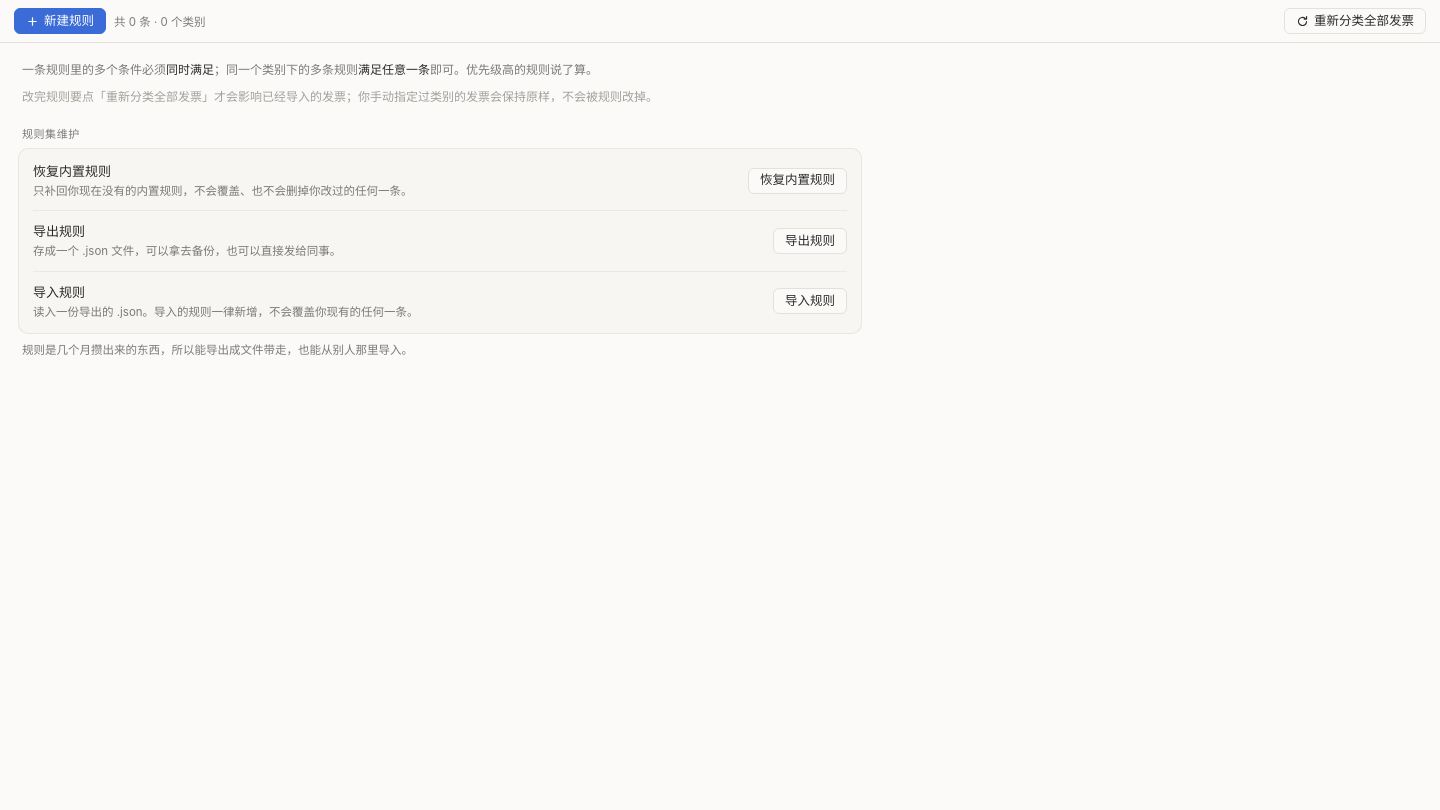
Test case: RulesPane › writes the rules to the file the user picked
The image size is (1440, 810).
Click the button "导出规则" at (810, 241), box [773,228,847,254]
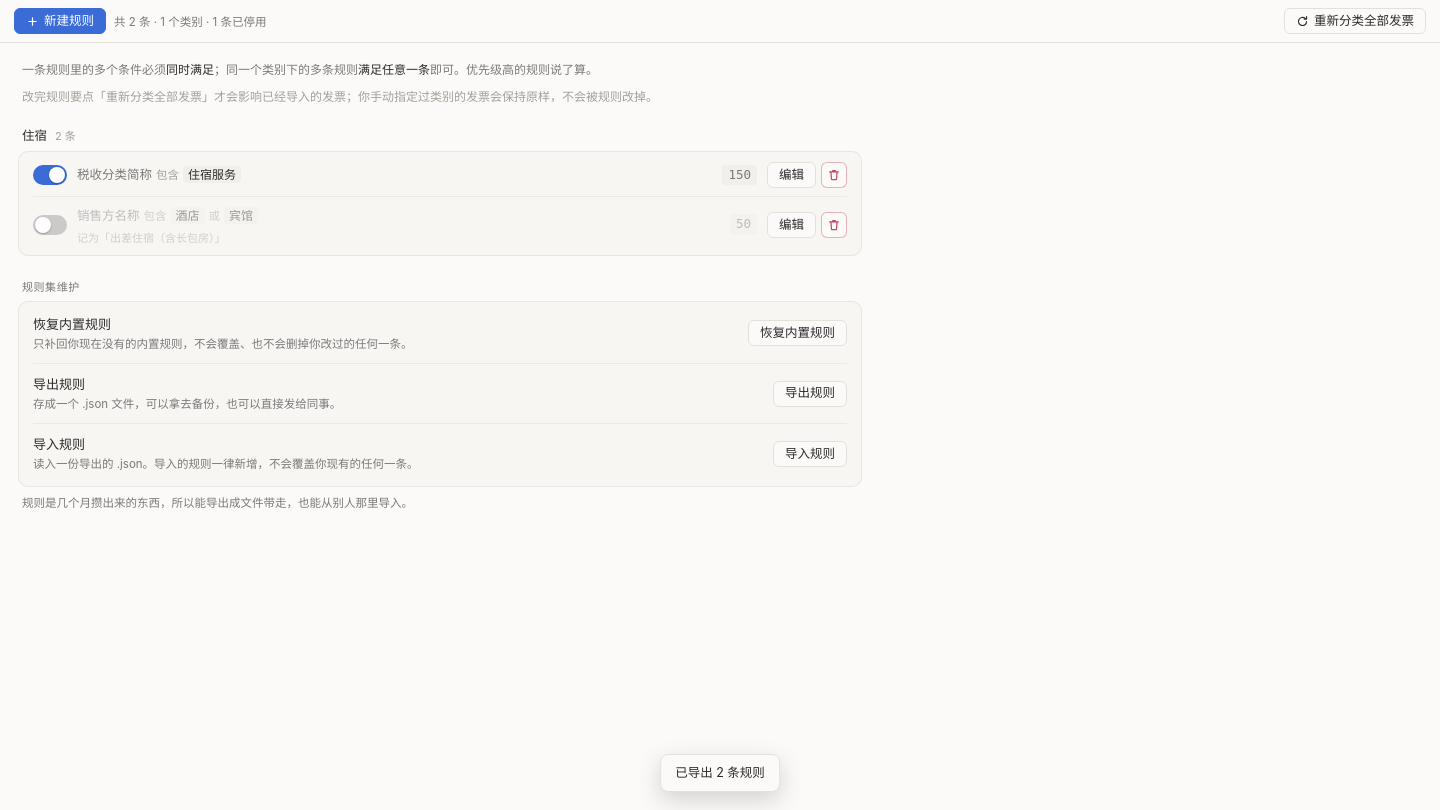
Result: the text "已导出 2 条规则" is shown at [660,754,780,792]
